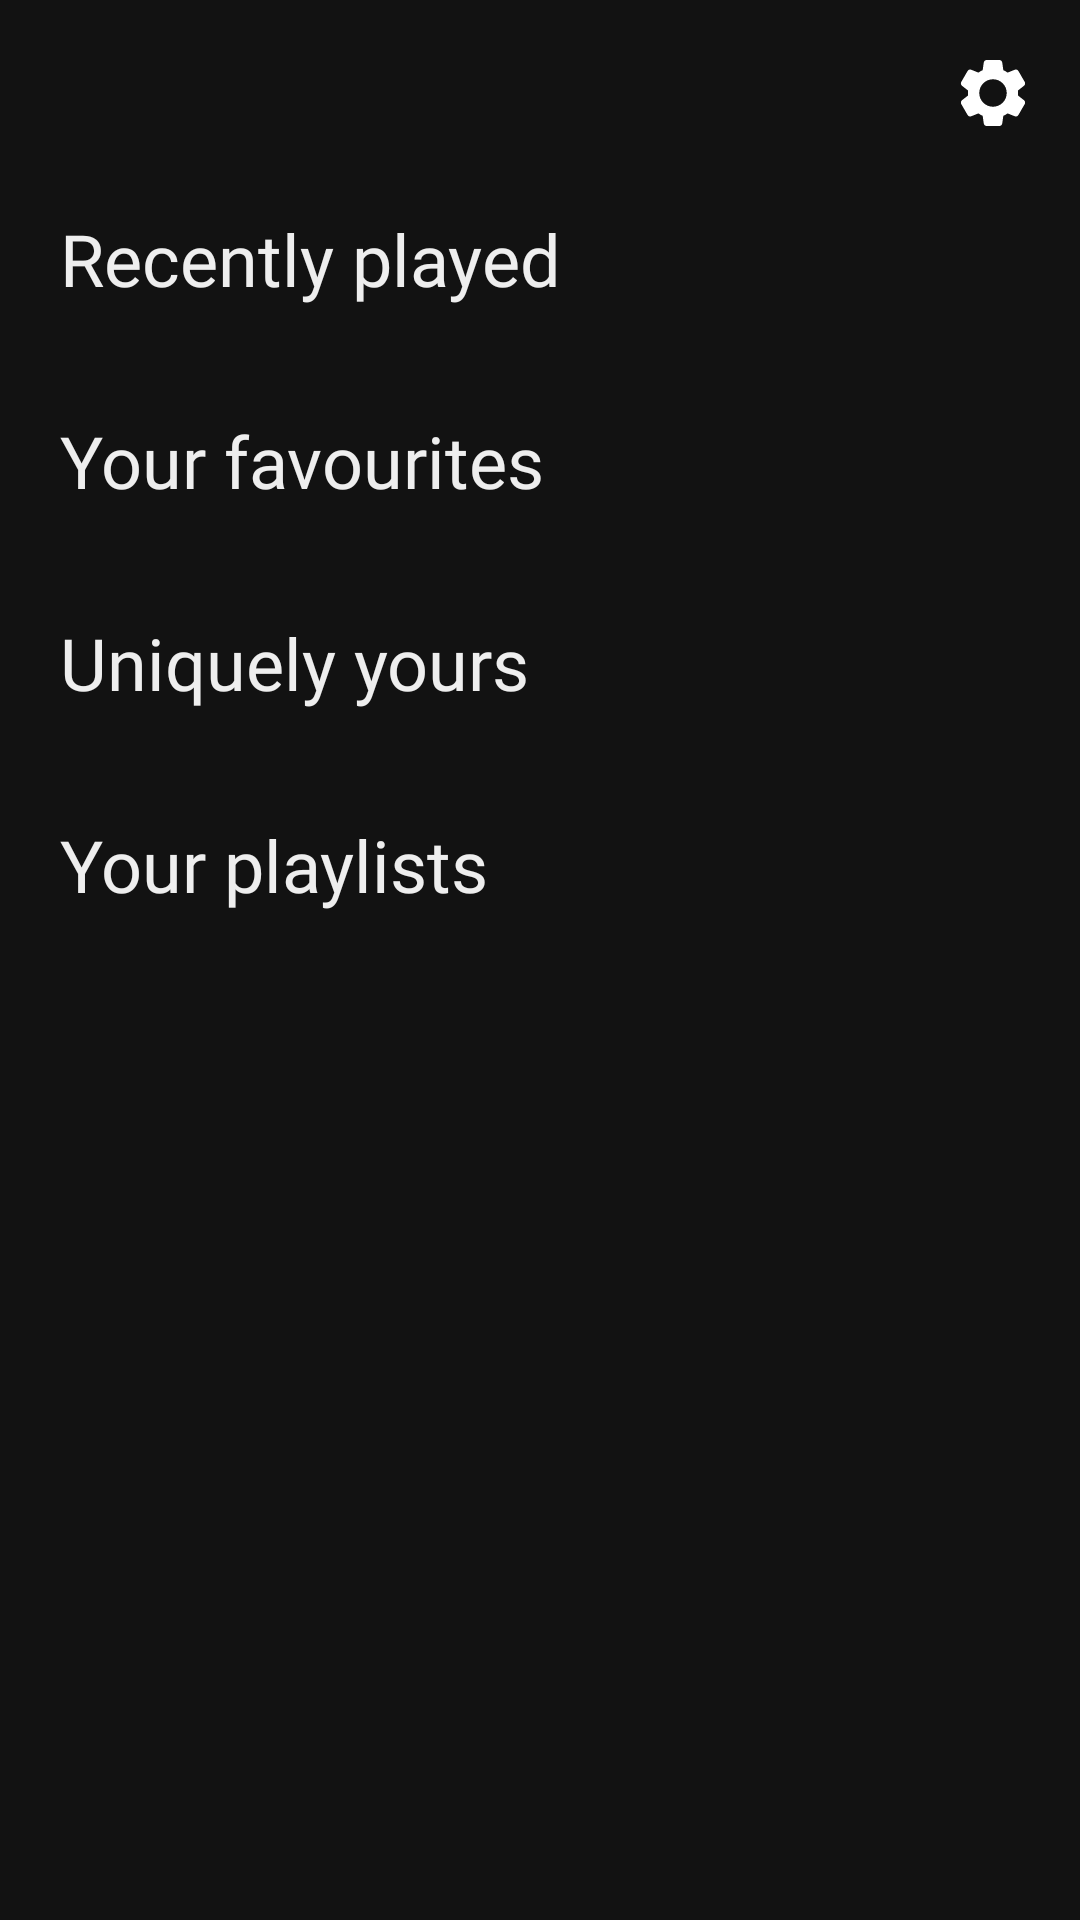

Icon bounding boxes for this 1080 × 1920 phone screenshot, format rect(x1, y1, x2, y2):
settings: rect(961, 60, 1025, 126)
